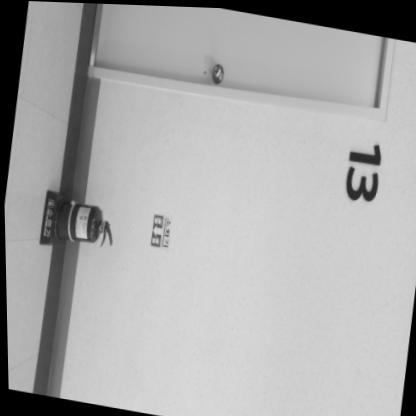FE: (35, 190, 116, 256)
